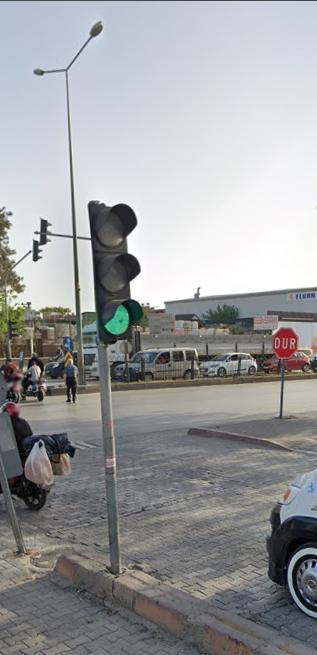greenlight: (88, 201, 139, 338)
stop: (273, 328, 298, 360)
